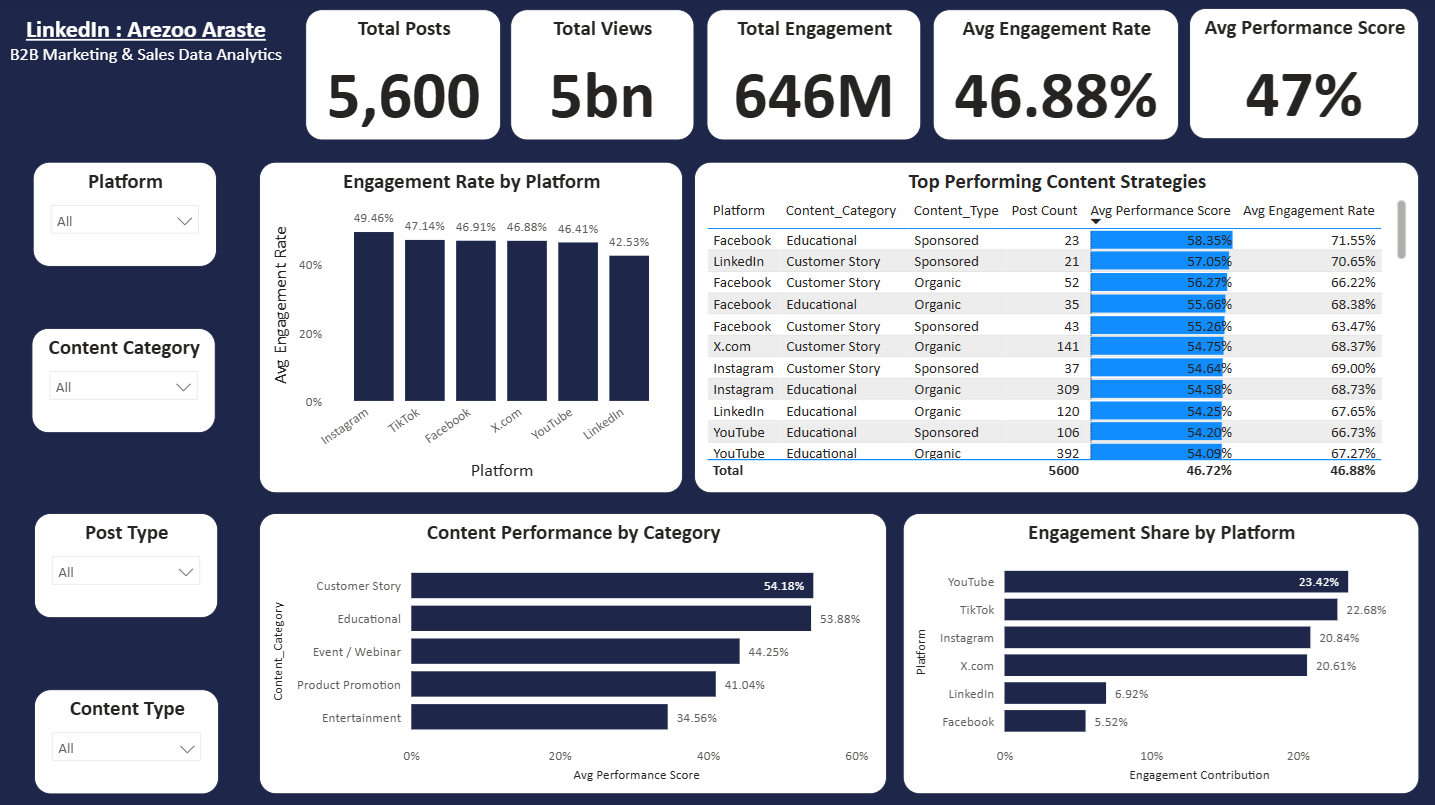

This screenshot's page, from the dashboard's own definition file:
{"tool":"powerbi","page":{"name":"Overview","canvas":[1280,720],"ordinal":0},"visuals":[{"type":"card","title":"Total Posts","fields":{"Values":["_Measures.Total Posts"]},"box":[272.7,10,174.8,116.9],"z":0},{"type":"textbox","box":[0,10,261.6,70.1],"z":1000},{"type":"card","title":"Total Views","fields":{"Values":["_Measures.Total Views"]},"box":[455.3,10,163.6,116.9],"z":2000},{"type":"card","title":"Total Engagement","fields":{"Values":["_Measures.Total Engagement"]},"box":[630.1,10,191.5,116.9],"z":3000},{"type":"card","title":"Avg Engagement Rate","fields":{"Values":["_Measures.Avg Engagement Rate"]},"box":[831.5,10,219.3,116.9],"z":4000},{"type":"card","title":"Avg Performance Score","fields":{"Values":["_Measures.Avg Performance Score"]},"box":[1059.7,8.9,204.8,116.9],"z":5000},{"type":"clusteredColumnChart","title":"Engagement Rate by Platform","fields":{"Category":["Dim_Platform.Platform"],"Y":["_Measures.Avg Engagement Rate"]},"box":[231.5,145.8,377.4,295],"z":6000},{"type":"clusteredBarChart","title":"Content Performance by Category","fields":{"Category":["Dim_Content.Content_Category"],"Y":["_Measures.Avg Performance Score"]},"box":[231.5,458.6,558.8,250.5],"z":7000},{"type":"barChart","title":"Engagement Share by Platform","fields":{"Category":["Dim_Platform.Platform"],"Y":["_Measures.Engagement Contribution"]},"box":[804.8,458.6,459.7,250.5],"z":8000},{"type":"tableEx","title":"Top Performing Content Strategies","fields":{"Values":["Dim_Platform.Platform","Dim_Content.Content_Category","Dim_Content.Content_Type","_Measures.Post Count","_Measures.Avg Performance Score","_Measures.Avg Engagement Rate"]},"box":[618.9,145.8,645.6,295],"z":9000},{"type":"slicer","title":"Platform","fields":{"Values":["Dim_Date.Date"]},"box":[30.1,145.8,163.6,93.5],"z":10000},{"type":"slicer","title":"Content Category","fields":{"Values":["Dim_Content.Content_Category"]},"box":[28.9,293.9,163.6,93.5],"z":11000},{"type":"slicer","title":"Post Type","fields":{"Values":["Dim_Content.Post_Type"]},"box":[31.2,458.6,163.6,93.5],"z":12000},{"type":"slicer","title":"Content Type","fields":{"Values":["Dim_Content.Content_Type"]},"box":[31.2,615.6,164.8,93.5],"z":13000}]}

Visuals, with their boxes in screenshot pixels (x1, y1, x2, y2), scaled from the page's 1280x720 canvas onto the 1435x805 screenshot:
"Total Posts" card: box(306, 11, 502, 142)
textbox: box(0, 11, 293, 90)
"Total Views" card: box(510, 11, 694, 142)
"Total Engagement" card: box(706, 11, 921, 142)
"Avg Engagement Rate" card: box(932, 11, 1178, 142)
"Avg Performance Score" card: box(1188, 10, 1418, 141)
"Engagement Rate by Platform" clusteredColumnChart: box(260, 163, 683, 493)
"Content Performance by Category" clusteredBarChart: box(260, 513, 886, 793)
"Engagement Share by Platform" barChart: box(902, 513, 1418, 793)
"Top Performing Content Strategies" tableEx: box(694, 163, 1418, 493)
"Platform" slicer: box(34, 163, 217, 268)
"Content Category" slicer: box(32, 329, 216, 433)
"Post Type" slicer: box(35, 513, 218, 617)
"Content Type" slicer: box(35, 688, 220, 793)
